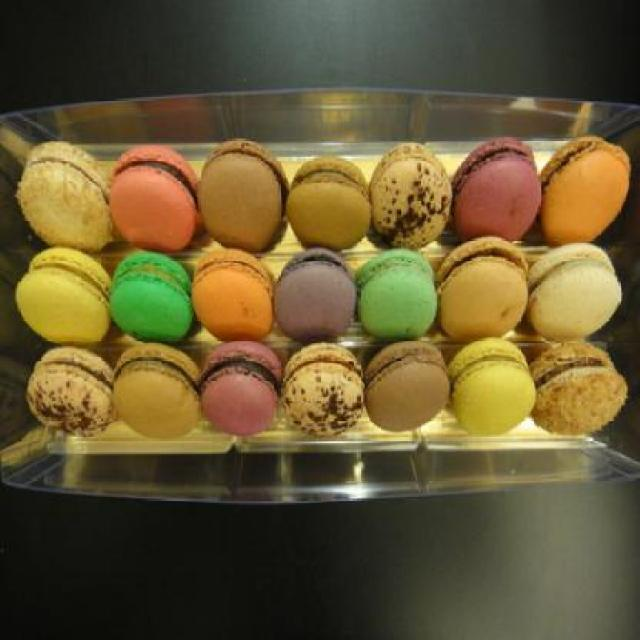Macaron: (11, 132, 638, 456)
